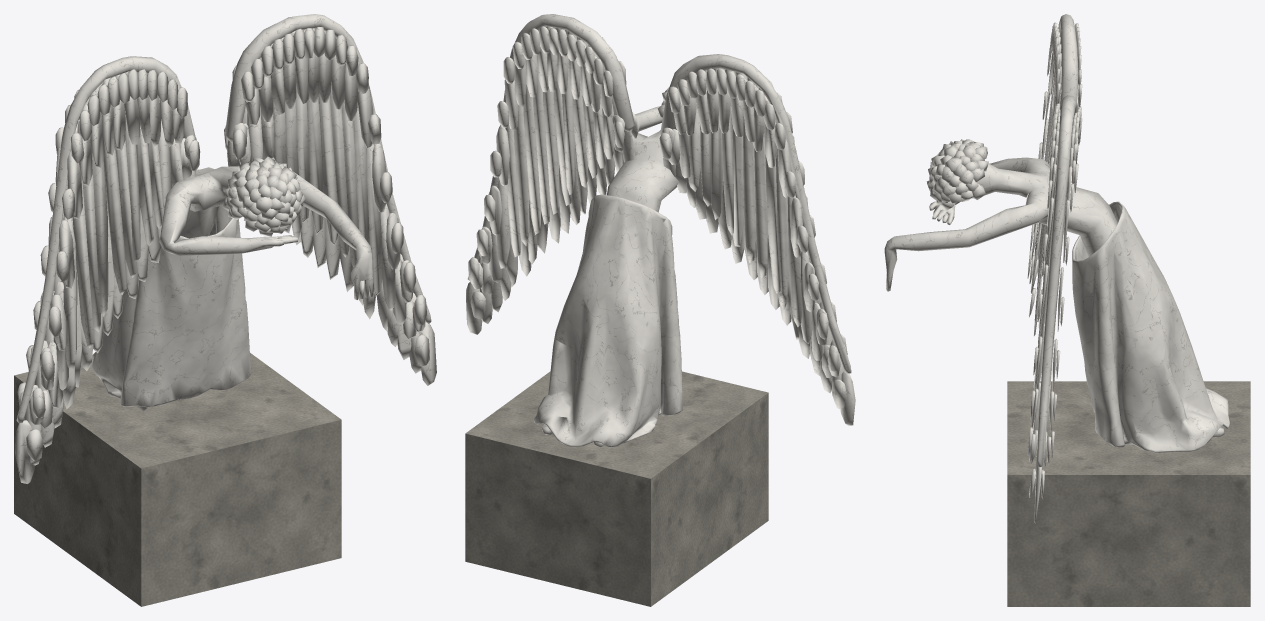
Rendered from angelito.obj.
3 views of the same model, side by side, from view 1: azimuth 30°, elevation 25°; view 2: azimuth 150°, elevation 25°; view 3: azimuth 270°, elevation 25° (orthographic). The views are drawn at different scales.
Visible parts, largest first — view 1: Angel_Alas, Pedestal, Angel_Tunica, Angel_Cuerpo; view 2: Angel_Alas, Pedestal, Angel_Tunica, Angel_Cuerpo; view 3: Pedestal, Angel_Tunica, Angel_Alas, Angel_Cuerpo.
Boxes of the visible parts, box(x1,y1,x2,y2) form: Angel_Alas: box(15, 14, 436, 483); Pedestal: box(14, 353, 341, 606); Angel_Tunica: box(91, 169, 251, 411); Angel_Cuerpo: box(159, 156, 373, 299); Angel_Alas: box(466, 14, 855, 425); Pedestal: box(465, 371, 768, 606); Angel_Tunica: box(533, 194, 682, 447); Angel_Cuerpo: box(542, 87, 678, 446); Pedestal: box(1007, 381, 1250, 606); Angel_Tunica: box(1072, 201, 1230, 452); Angel_Alas: box(1027, 14, 1082, 523); Angel_Cuerpo: box(884, 139, 1224, 437).
Size of the model in its own units: 2.1 by 2.49 by 1.66.
Materials: 2 (2 with a texture image).
